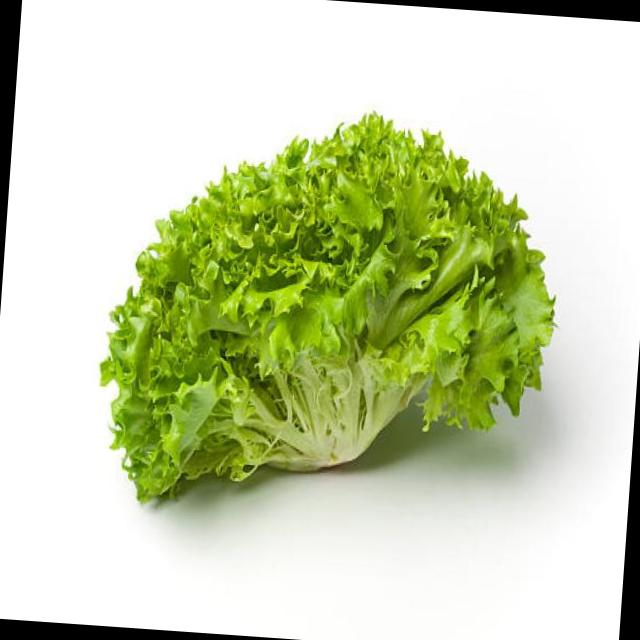Lettuce-Ready-to-Harvest: (96, 113, 556, 507)
